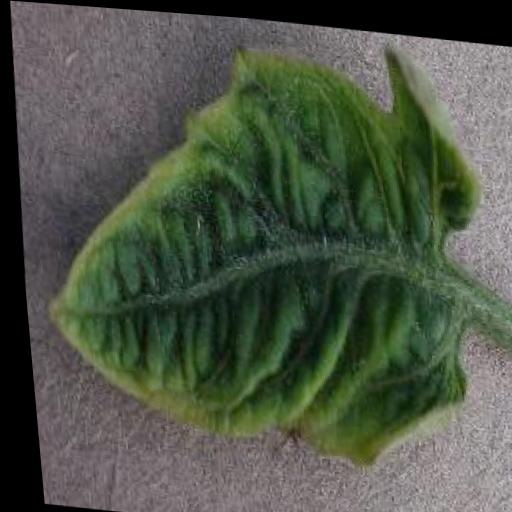Yellow Leaf Curl Virus: (14, 4, 504, 472)
